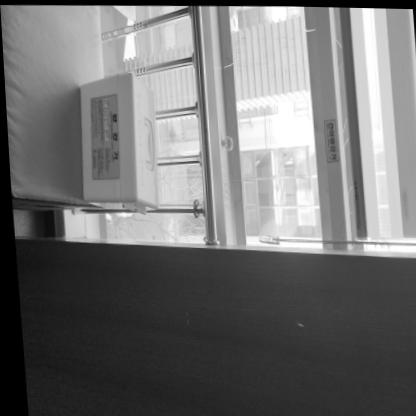DDL: (72, 69, 158, 206)
